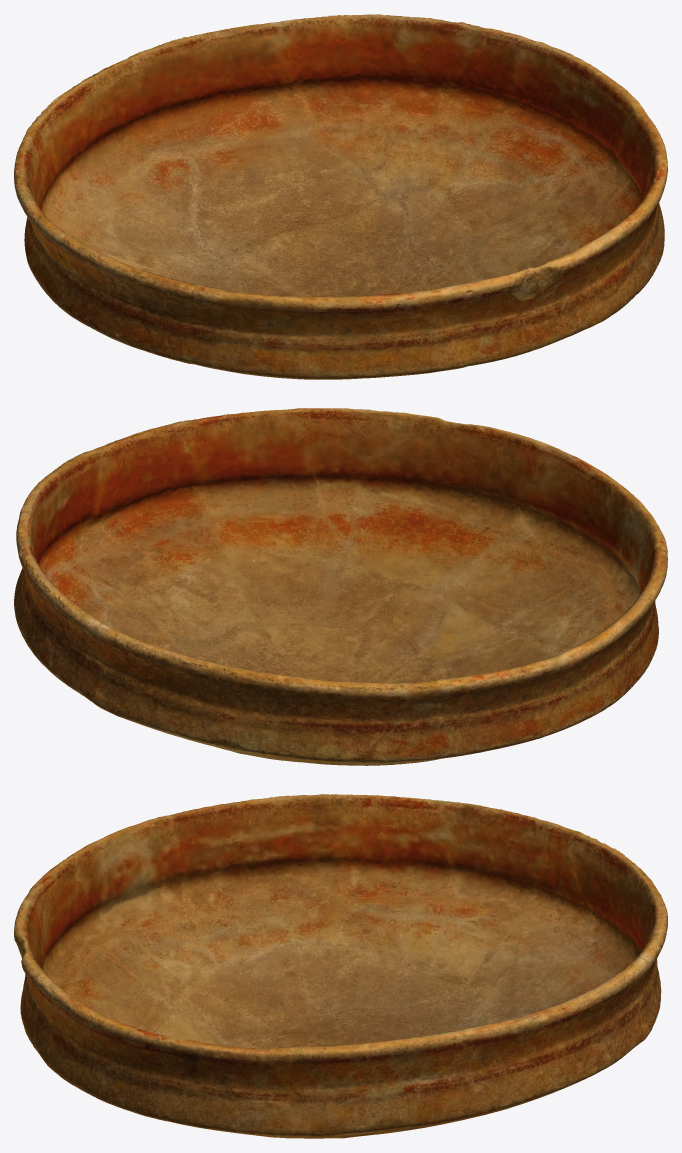
3 views of the same model, one above another, from view 1: azimuth 30°, elevation 25°; view 2: azimuth 150°, elevation 25°; view 3: azimuth 270°, elevation 25° (orthographic).
Visible parts, largest first — view 1: Mesh_0.005; view 2: Mesh_0.005; view 3: Mesh_0.005.
Boxes of the visible parts, bbox=[...] form: Mesh_0.005: bbox=[14, 14, 667, 379]; Mesh_0.005: bbox=[14, 408, 667, 765]; Mesh_0.005: bbox=[14, 794, 667, 1138].
Bounding box in the file's own units: 0.2349 × 0.0715 × 0.2326.
Materials: 1 (1 with a texture image).
